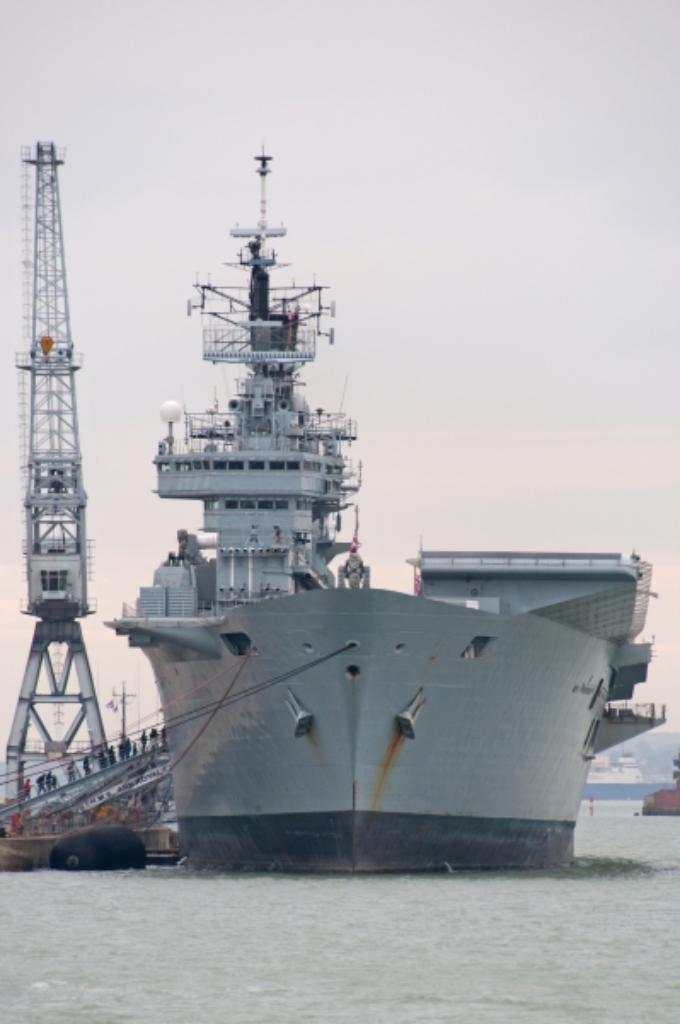Warship: (96, 128, 672, 876)
